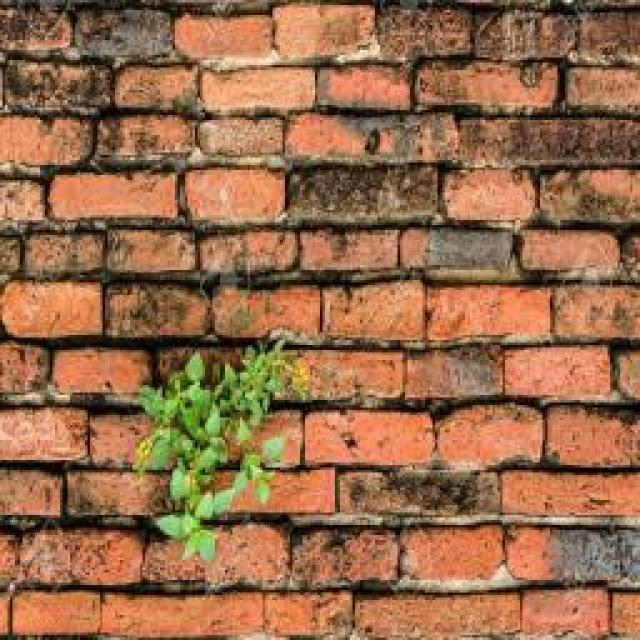crack: (1, 1, 638, 637)
vegetation: (130, 333, 311, 562)
